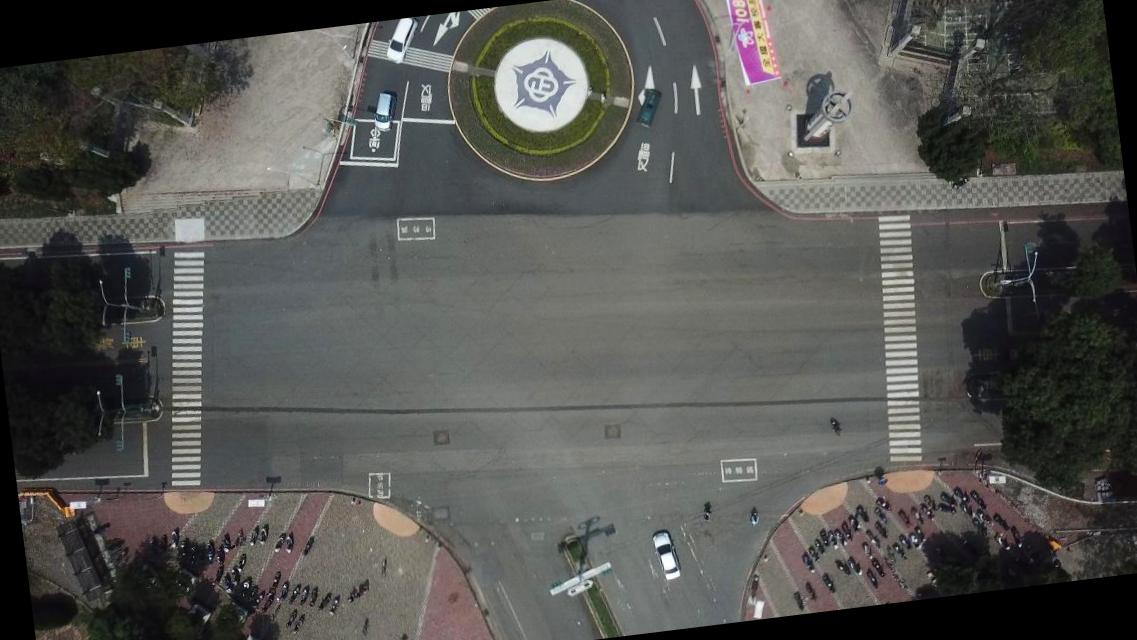vehicle: (381, 17, 422, 63), (652, 528, 682, 582), (631, 86, 664, 128), (368, 90, 398, 132)
